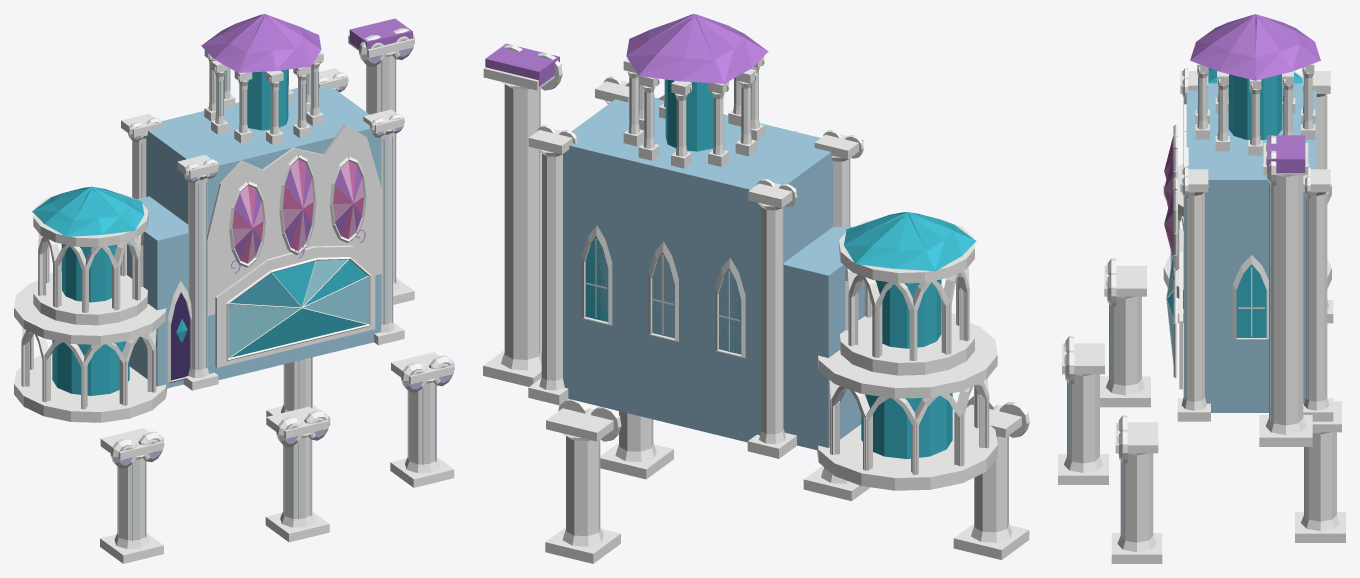
File: building.glb
The picture shows the model from 3 angles, left to right: view 1: azimuth 30°, elevation 25°; view 2: azimuth 150°, elevation 25°; view 3: azimuth 270°, elevation 25°; orthographic projection. The views are drawn at different scales.
Parts seen in each view (by area): view 1: 12_R3B_Cloudsdale_UnifiedCrystalHallAndOpenLoggias; view 2: 12_R3B_Cloudsdale_UnifiedCrystalHallAndOpenLoggias; view 3: 12_R3B_Cloudsdale_UnifiedCrystalHallAndOpenLoggias.
Part boxes in pixels (bbox=[...]): 12_R3B_Cloudsdale_UnifiedCrystalHallAndOpenLoggias: bbox=[14, 14, 454, 563]; 12_R3B_Cloudsdale_UnifiedCrystalHallAndOpenLoggias: bbox=[483, 14, 1029, 563]; 12_R3B_Cloudsdale_UnifiedCrystalHallAndOpenLoggias: bbox=[1058, 14, 1345, 563].
Size of the model in its own units: 1.18 by 1.24 by 0.672.
